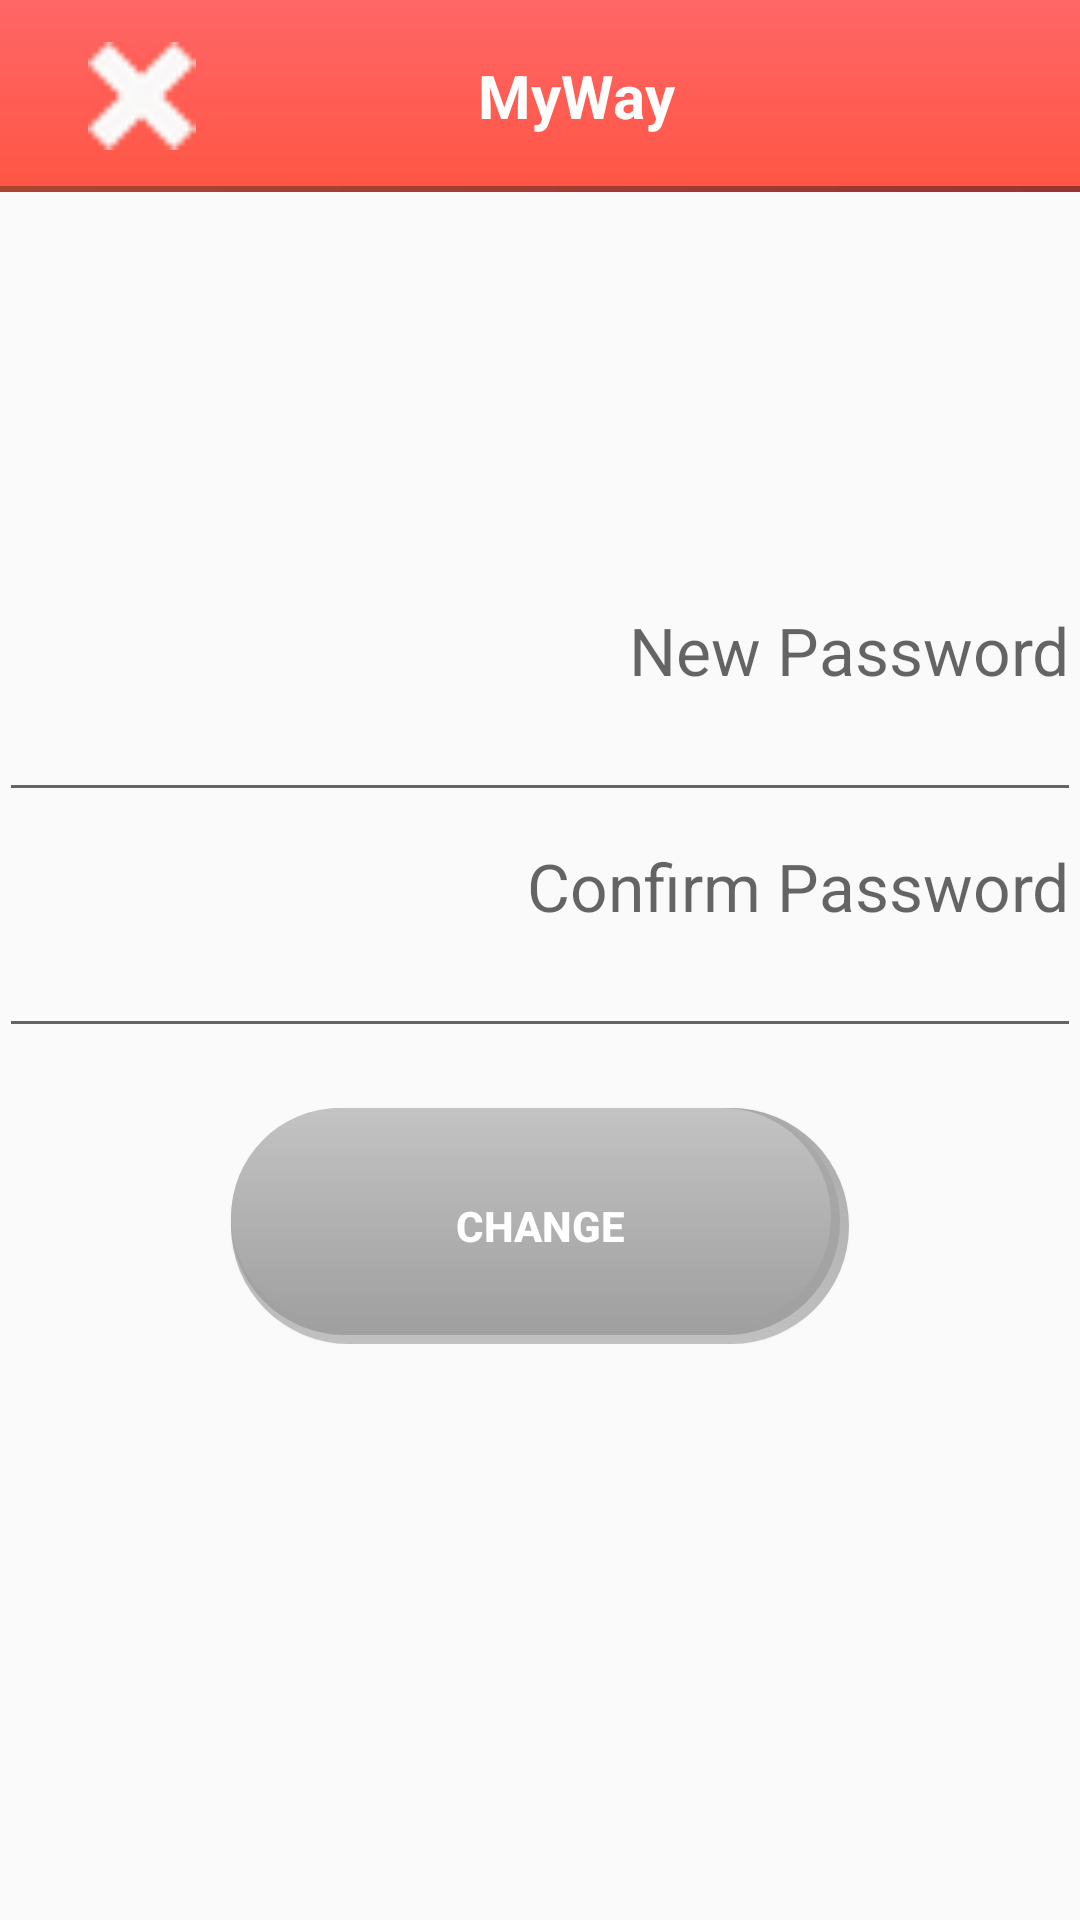

Point at icon controls on the screen. Image size 1080 × 1920, points as point (x, y).
cancel: point (142, 96)
